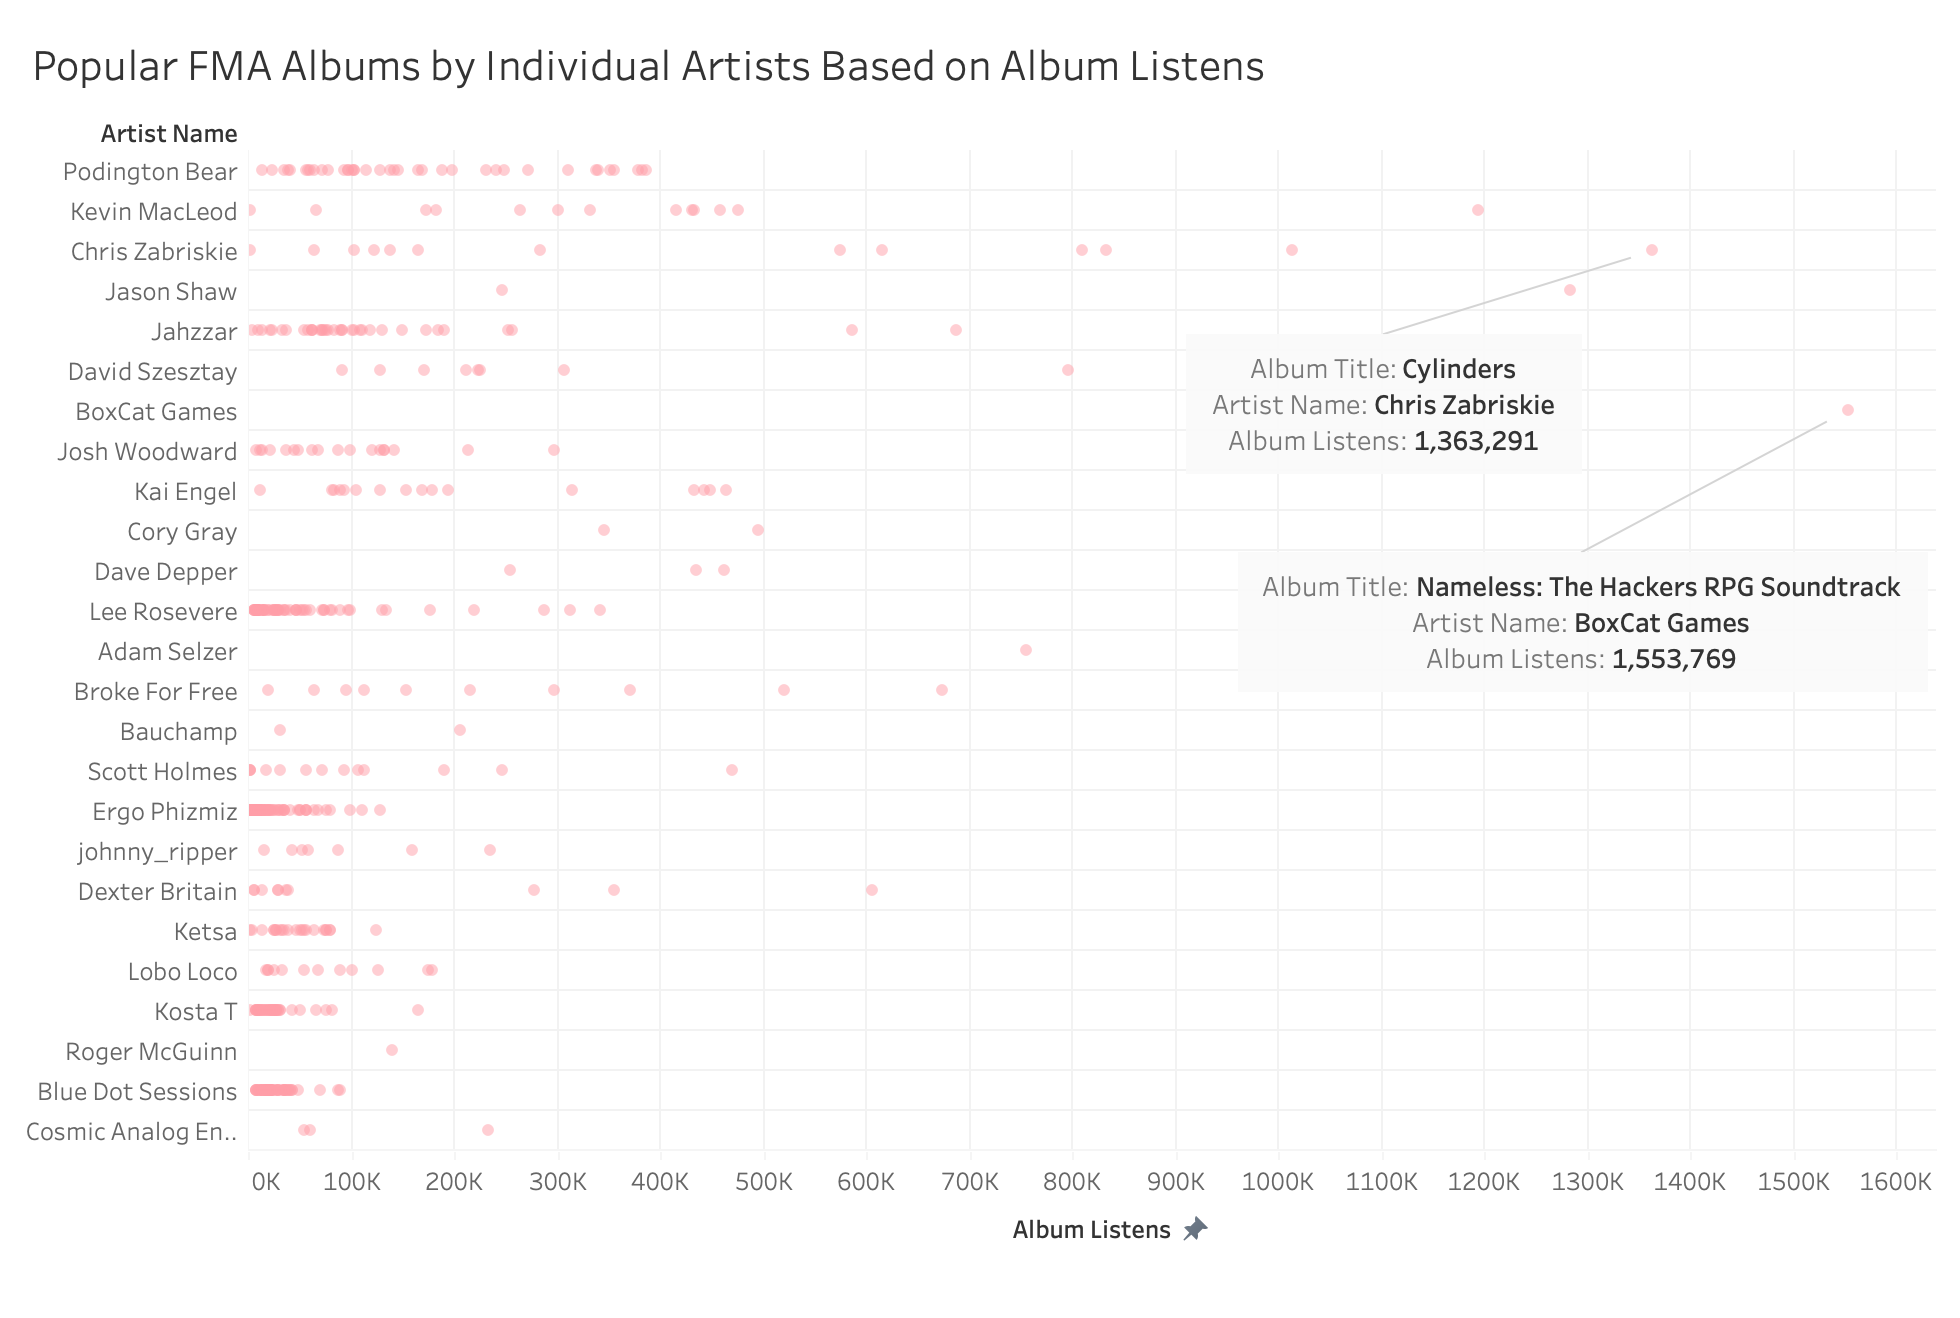

What the dashboard file says about the page in this screenshot:
{"tool":"tableau","page":{"name":"Dashboard 1 (2)","canvas":[1600,900],"ordinal":1},"visuals":[{"type":"worksheet","title":"Sheet 1","mark":"Automatic","box":[8,8,1584,884]}]}

Visuals, with their boxes on the page's 1600x900 design canvas (x1, y1, x2, y2). These are canvas units, not pixel positions in the 1960x1318 screenshot, which may show the page scaled, cropped or inside an application window:
"Sheet 1" worksheet: 8:8:1592:892
